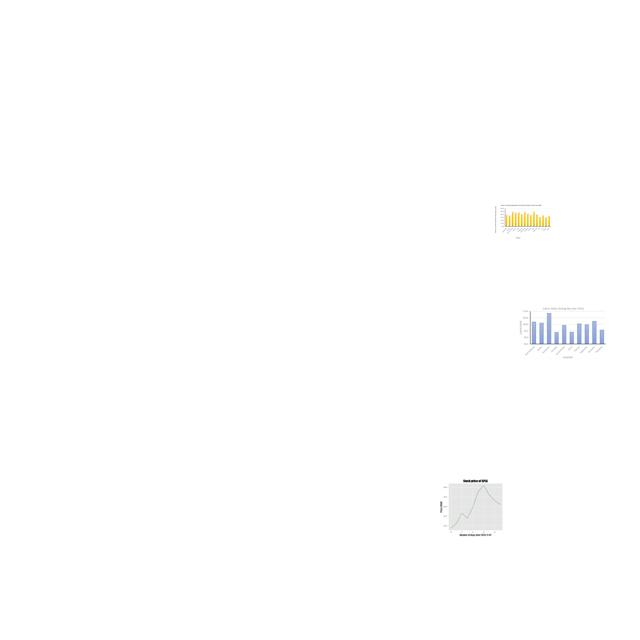Graph: (434, 476, 515, 537), (519, 306, 607, 359), (493, 204, 553, 240)
